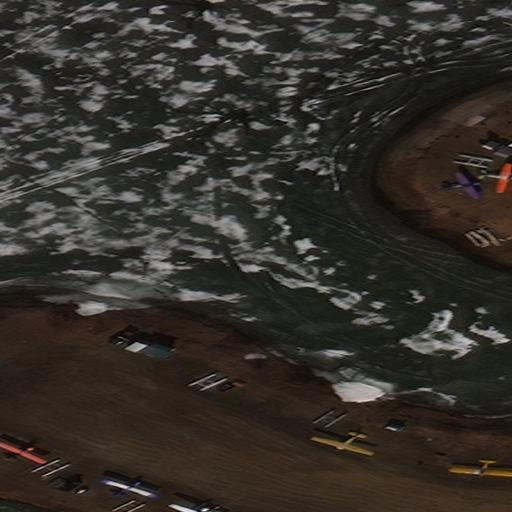Small Civil Transport: (309, 431, 371, 456), (448, 459, 512, 478), (441, 171, 481, 197), (0, 441, 48, 461), (480, 163, 512, 193), (103, 478, 153, 496), (170, 502, 215, 512)
